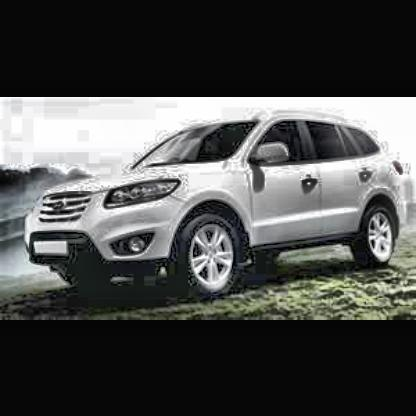Hyundai Santa Fe SUV 2012: (30, 112, 411, 292)
